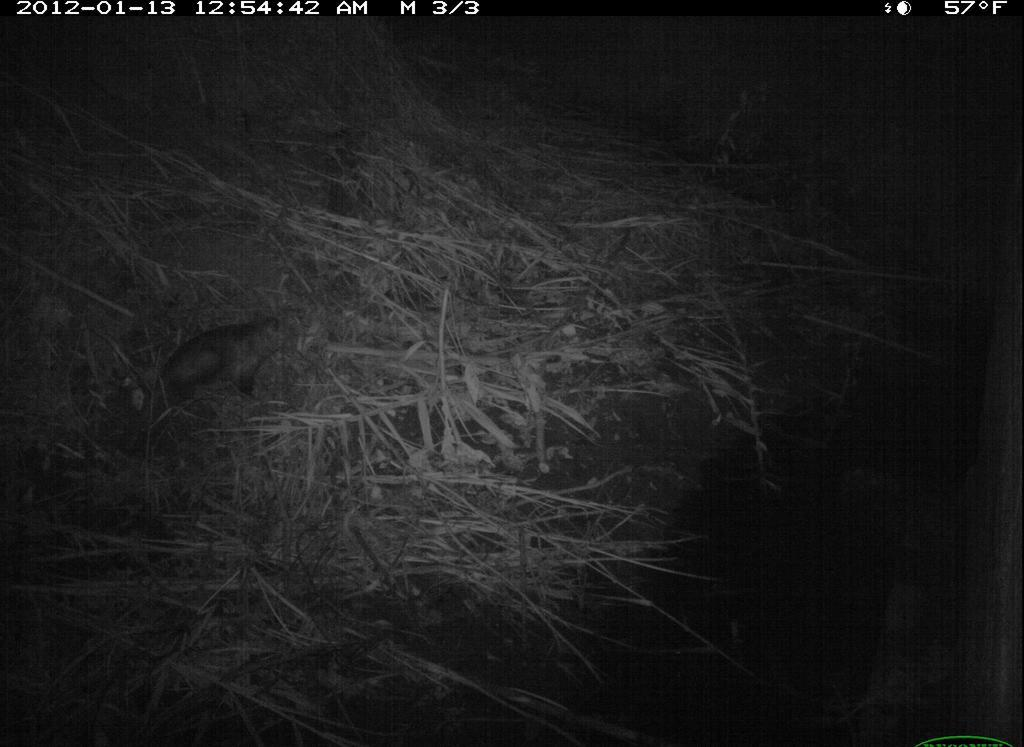opossum: (119, 303, 338, 418)
